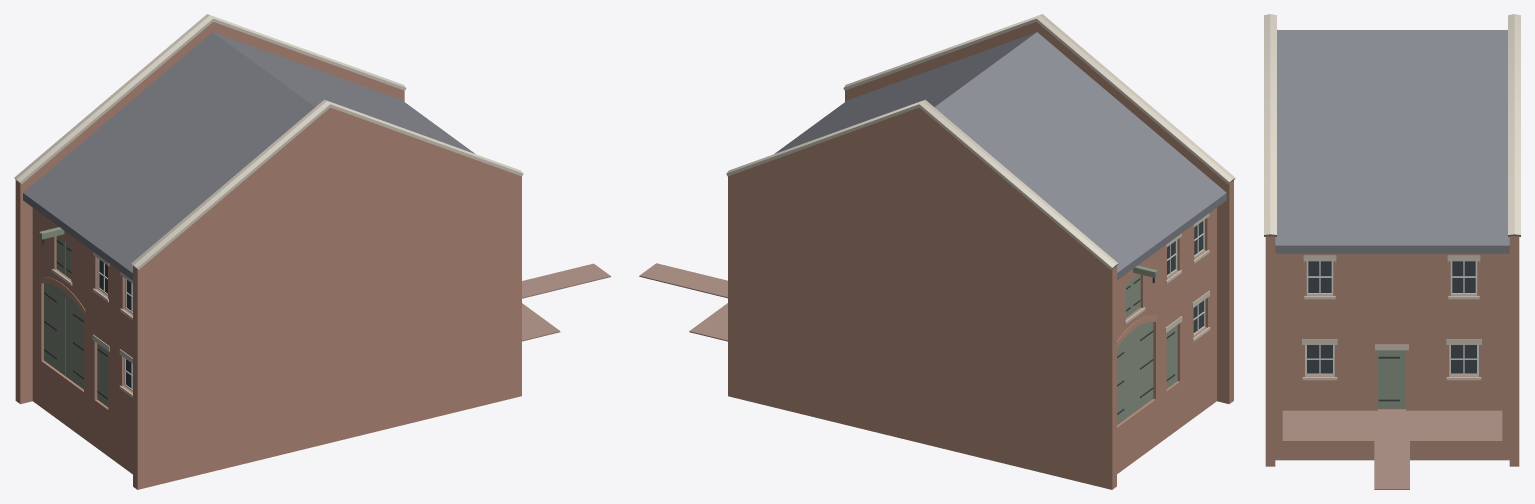
File: wheeler_house_1812_prairie_coach_house__as_standing_1904.glb
3 views of the same model, side by side, from view 1: azimuth 30°, elevation 25°; view 2: azimuth 150°, elevation 25°; view 3: azimuth 270°, elevation 25° (orthographic). The views are drawn at different scales.
Visible parts, largest first — view 1: wheeler_house_1812_prairie_coach_house__as_standing_1904; view 2: wheeler_house_1812_prairie_coach_house__as_standing_1904; view 3: wheeler_house_1812_prairie_coach_house__as_standing_1904.
Boxes of the visible parts, left/top/right/bottom form: wheeler_house_1812_prairie_coach_house__as_standing_1904: left=14, top=14, right=610, bottom=489; wheeler_house_1812_prairie_coach_house__as_standing_1904: left=639, top=14, right=1235, bottom=489; wheeler_house_1812_prairie_coach_house__as_standing_1904: left=1264, top=14, right=1520, bottom=489.
Bounding box in the file's own units: 21.68 × 13.18 × 8.64.
